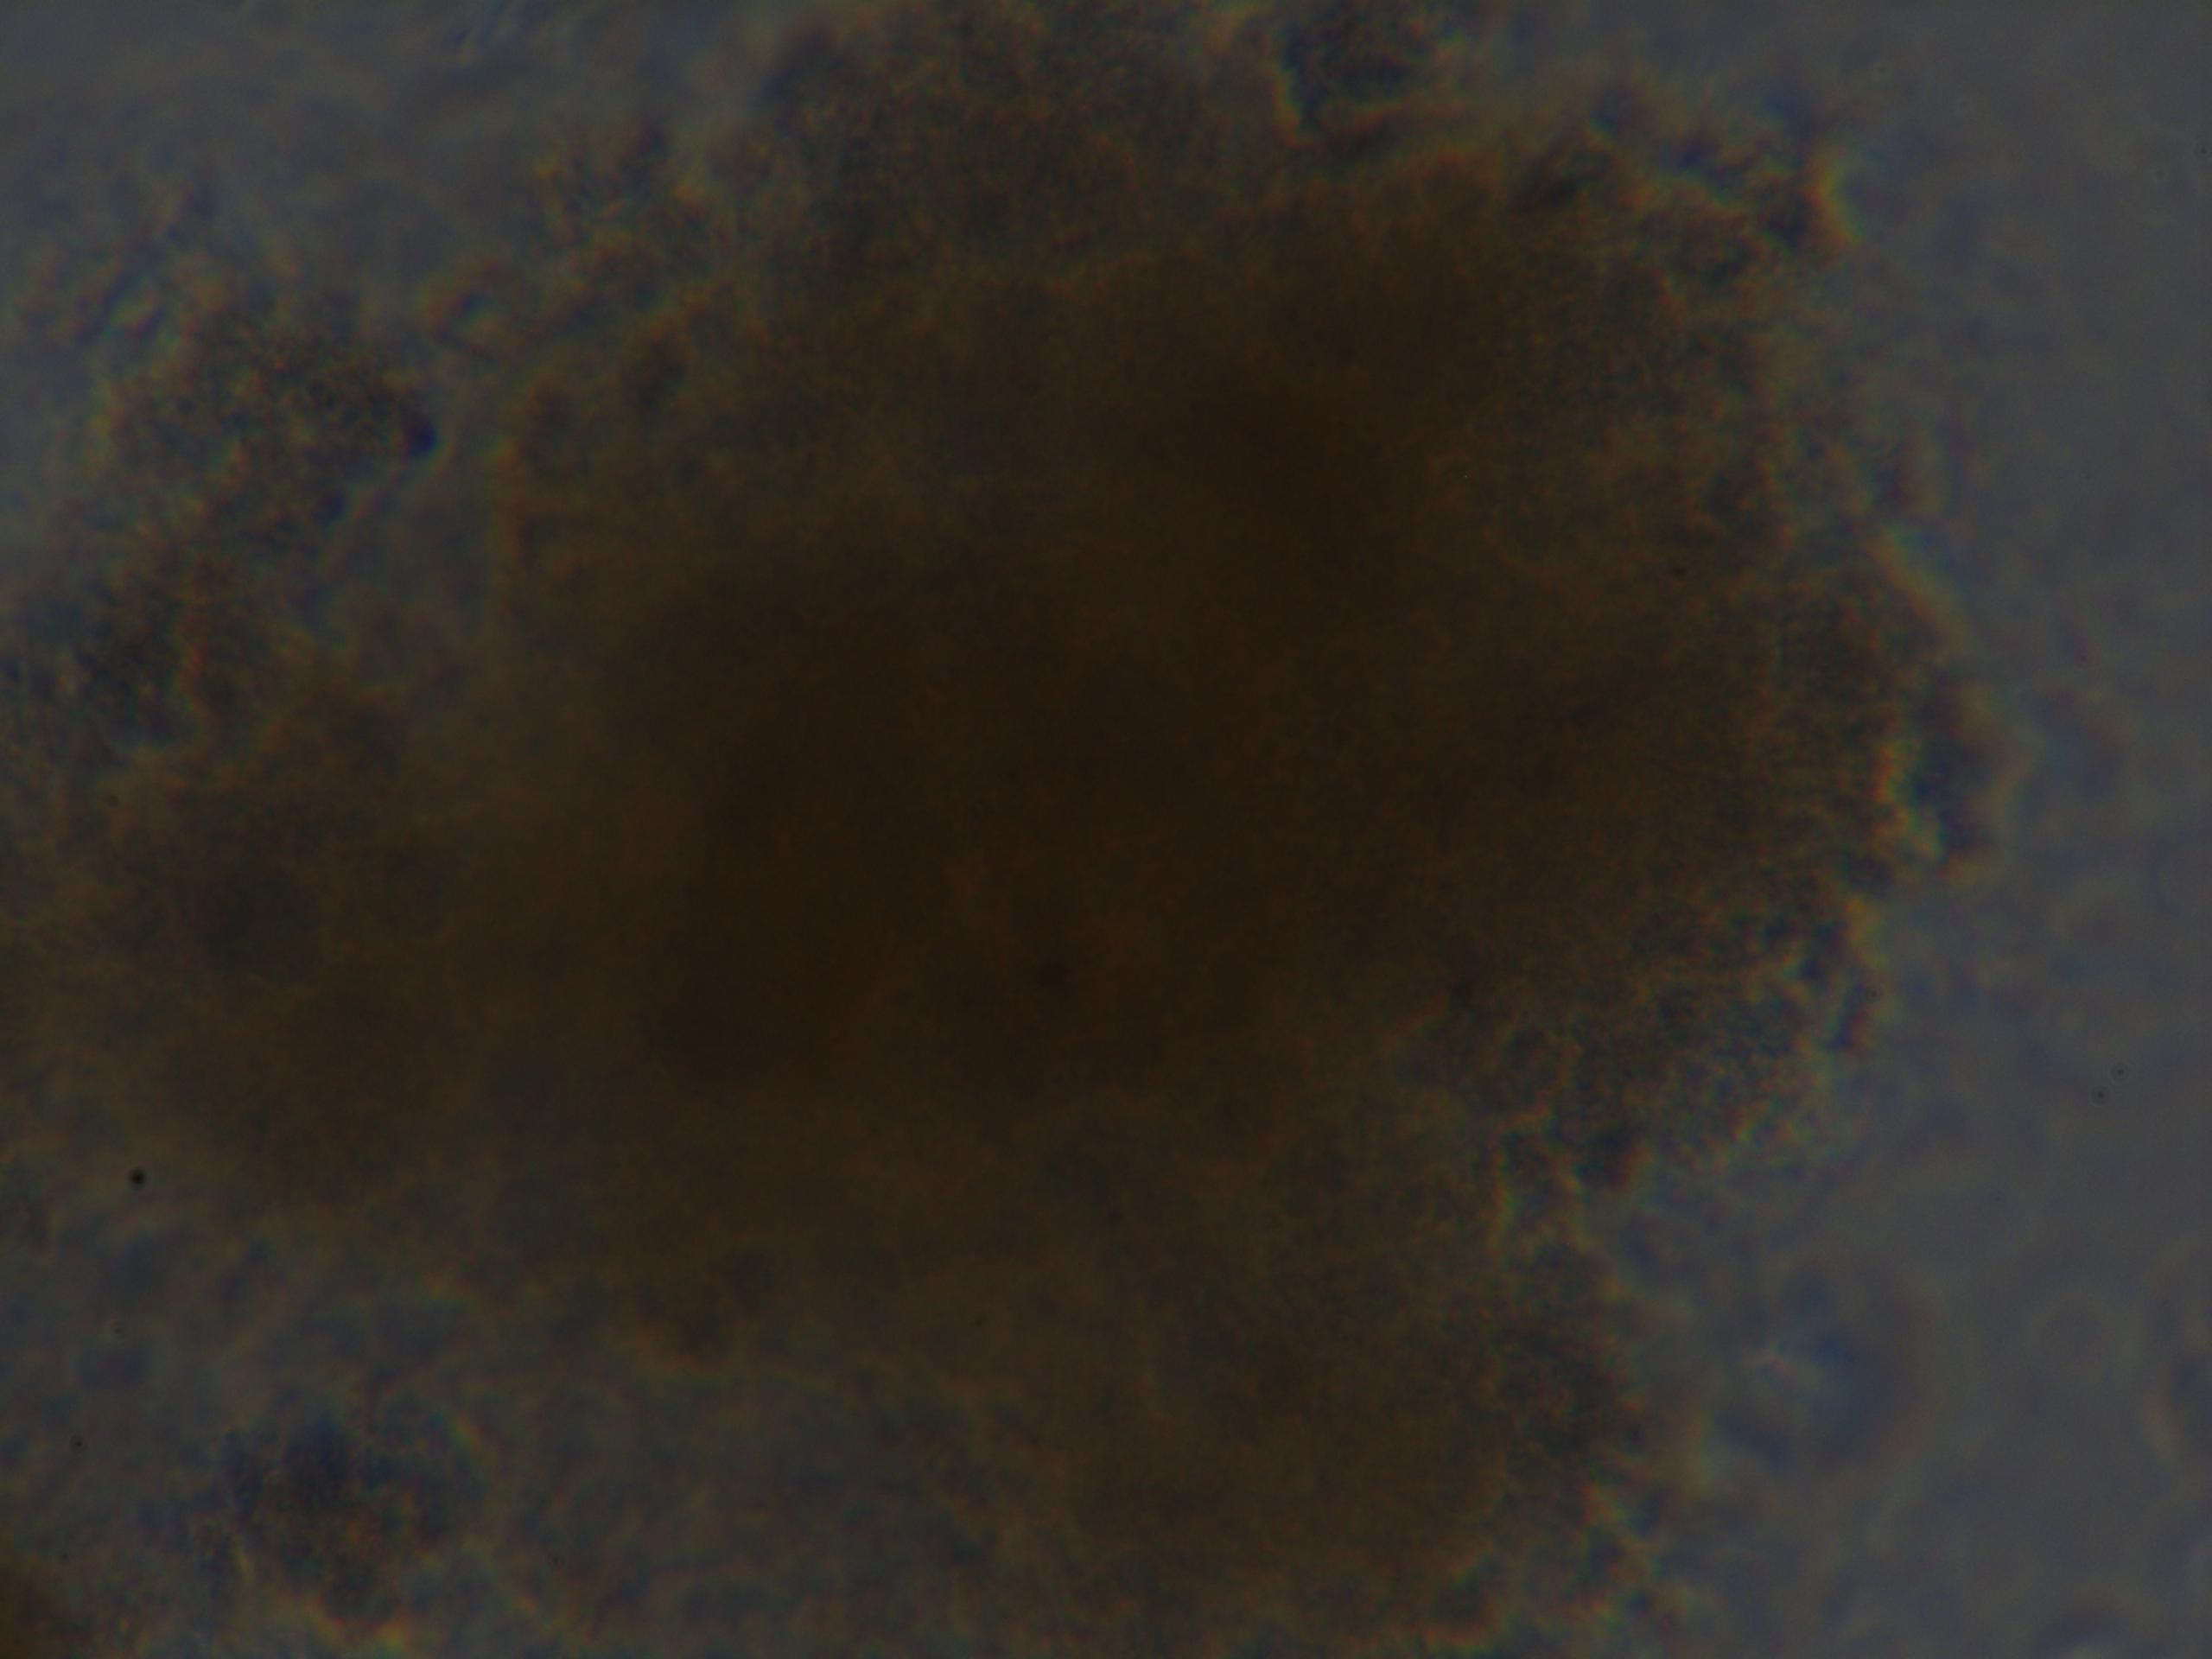spherical_floc: (0, 3, 1939, 1659)
